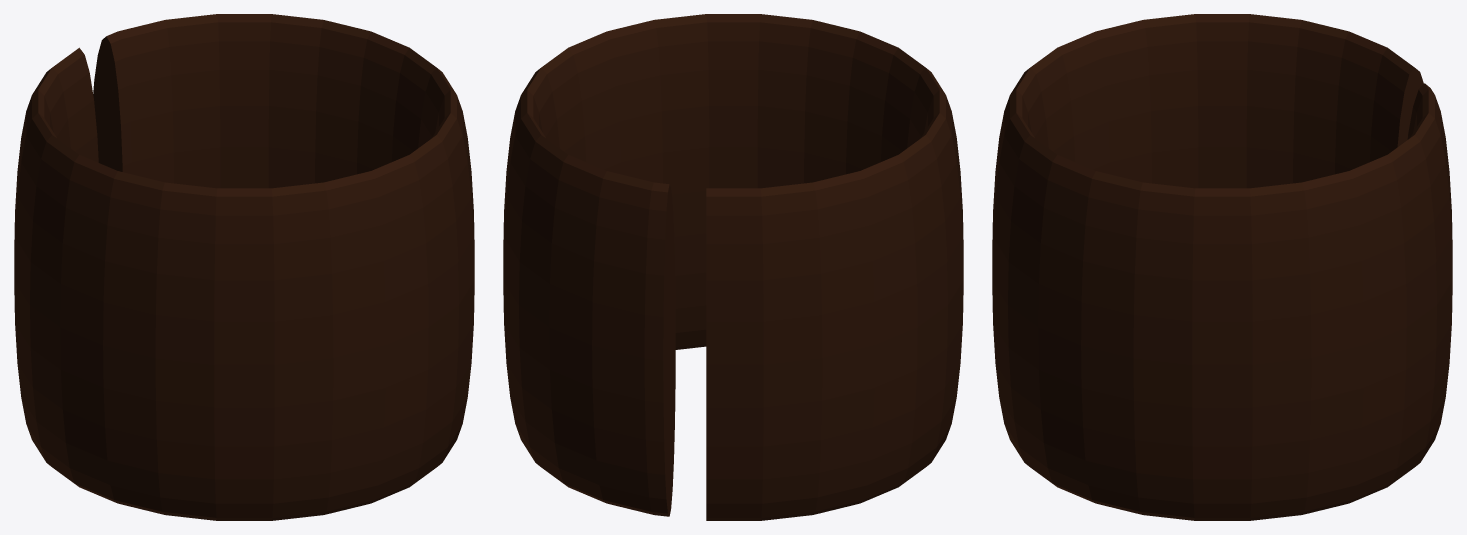
The picture shows the model from 3 angles, left to right: view 1: azimuth 30°, elevation 25°; view 2: azimuth 150°, elevation 25°; view 3: azimuth 270°, elevation 25°; orthographic projection.
Parts seen in each view (by area): view 1: mesh1_mesh1-geometry; view 2: mesh1_mesh1-geometry; view 3: mesh1_mesh1-geometry.
Part boxes in pixels (bbox=[...]): mesh1_mesh1-geometry: bbox=[14, 14, 474, 520]; mesh1_mesh1-geometry: bbox=[503, 14, 963, 520]; mesh1_mesh1-geometry: bbox=[992, 14, 1452, 520].
Bounding box in the file's own units: 0.6161 × 0.4909 × 0.6161.
